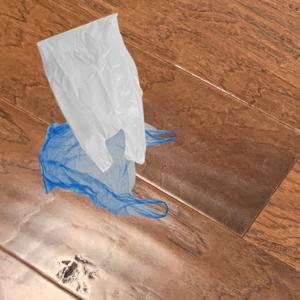plastic_bag: (34, 11, 149, 172), (38, 119, 176, 220)
